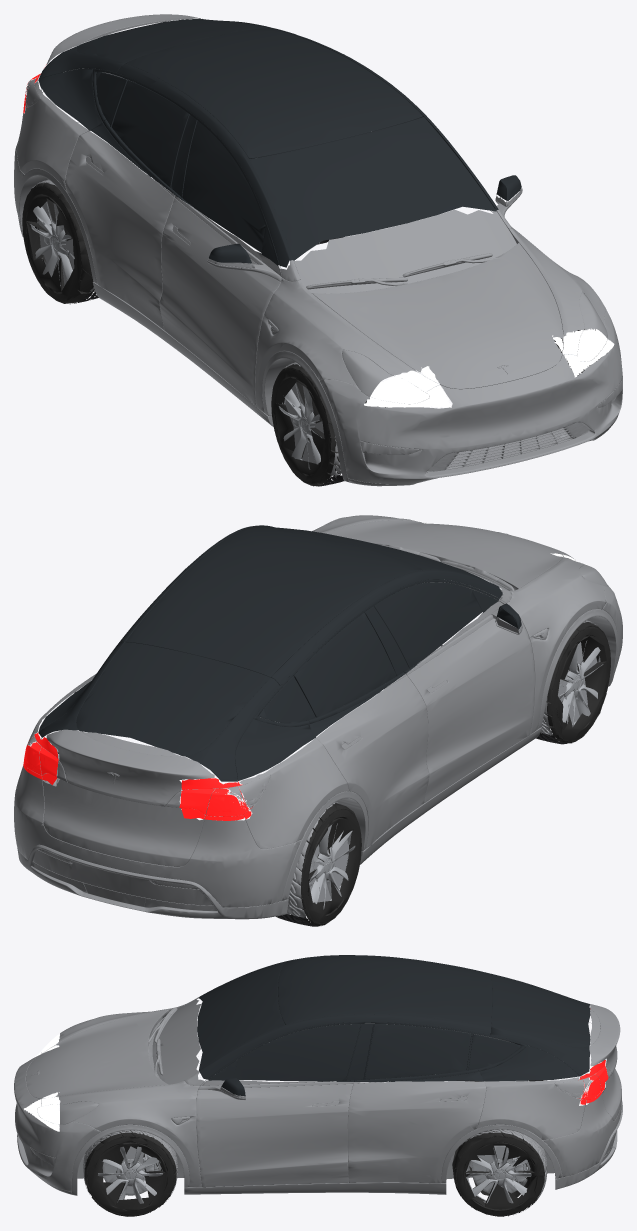
Rendered from ego-model-y.glb.
3 views of the same model, one above another, from view 1: azimuth 30°, elevation 25°; view 2: azimuth 150°, elevation 25°; view 3: azimuth 270°, elevation 25° (orthographic). The views are drawn at different scales.
Visible parts, largest first — view 1: paint, glass, tyre, headlight, rim; view 2: paint, glass, tyre, rim, taillight; view 3: paint, glass, tyre, rim, headlight, taillight.
Boxes of the visible parts, left/top/right/bottom form: paint: left=14, top=14, right=622, bottom=486; glass: left=38, top=18, right=521, bottom=267; tyre: left=22, top=182, right=595, bottom=486; headlight: left=364, top=329, right=614, bottom=408; rim: left=30, top=201, right=584, bottom=469; paint: left=14, top=515, right=622, bottom=919; glass: left=38, top=525, right=521, bottom=781; tyre: left=58, top=621, right=610, bottom=925; rim: left=300, top=640, right=603, bottom=909; taillight: left=23, top=732, right=252, bottom=820; paint: left=14, top=997, right=622, bottom=1199; glass: left=197, top=955, right=590, bottom=1096; tyre: left=84, top=1080, right=544, bottom=1216; rim: left=98, top=1080, right=531, bottom=1203; headlight: left=24, top=1034, right=59, bottom=1131; taillight: left=579, top=1060, right=608, bottom=1104.
Bounding box in the file's own units: 2.09 × 1.61 × 4.75.
